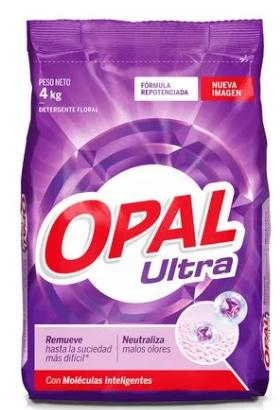brand: (35, 179, 247, 288)
net_weight: (32, 86, 76, 106)
product_name: (133, 246, 247, 289)
